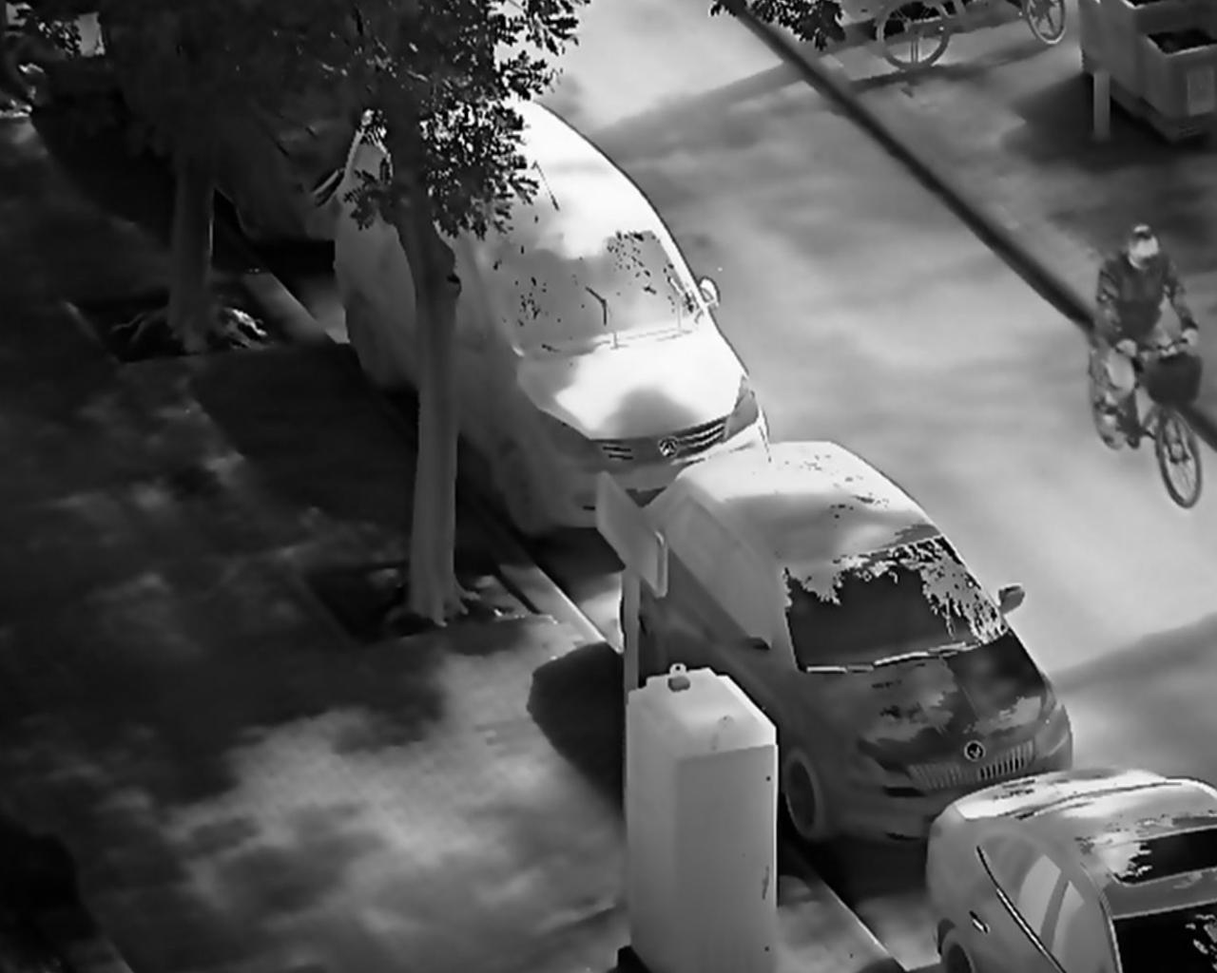person: (1091, 218, 1200, 429)
